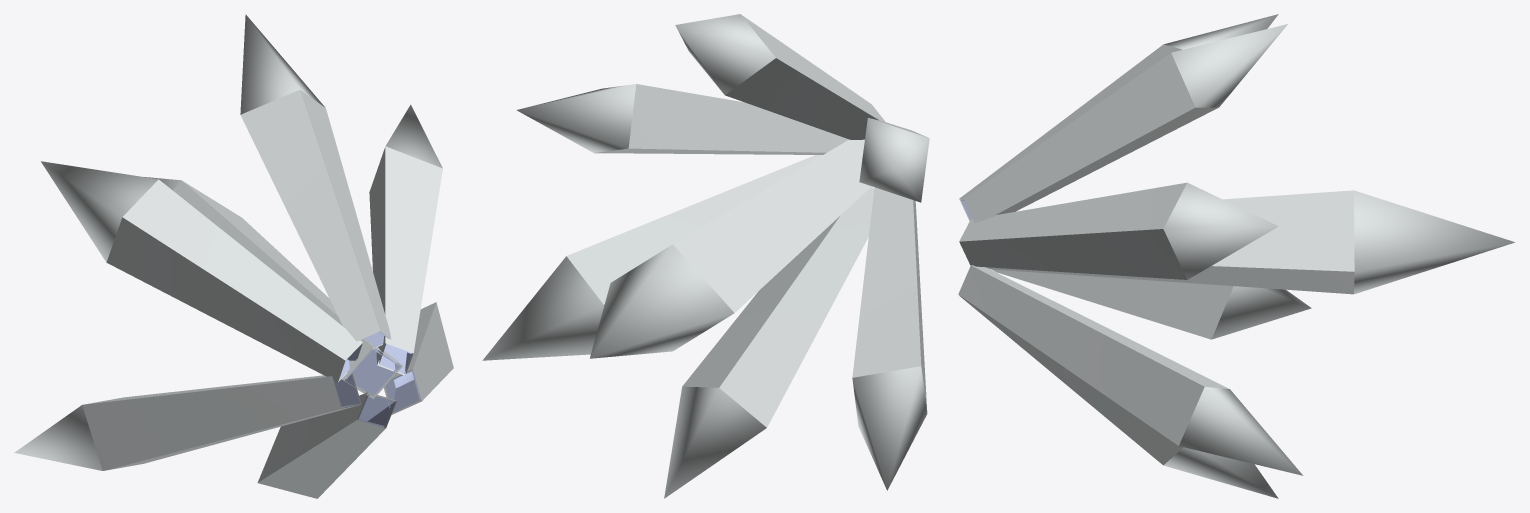
3 renders of one model, left to right at view 1: azimuth 30°, elevation 25°; view 2: azimuth 150°, elevation 25°; view 3: azimuth 270°, elevation 25°, orthographic. The views are drawn at different scales.
Parts seen in each view (by area): view 1: Object28; view 2: Object28; view 3: Object28.
Boxes of the visible parts, x1,y1,x2,y2 form: Object28: (14, 14, 453, 498); Object28: (482, 14, 929, 498); Object28: (958, 14, 1514, 498).
Size of the model in its own units: 64057 by 71989 by 77792.
